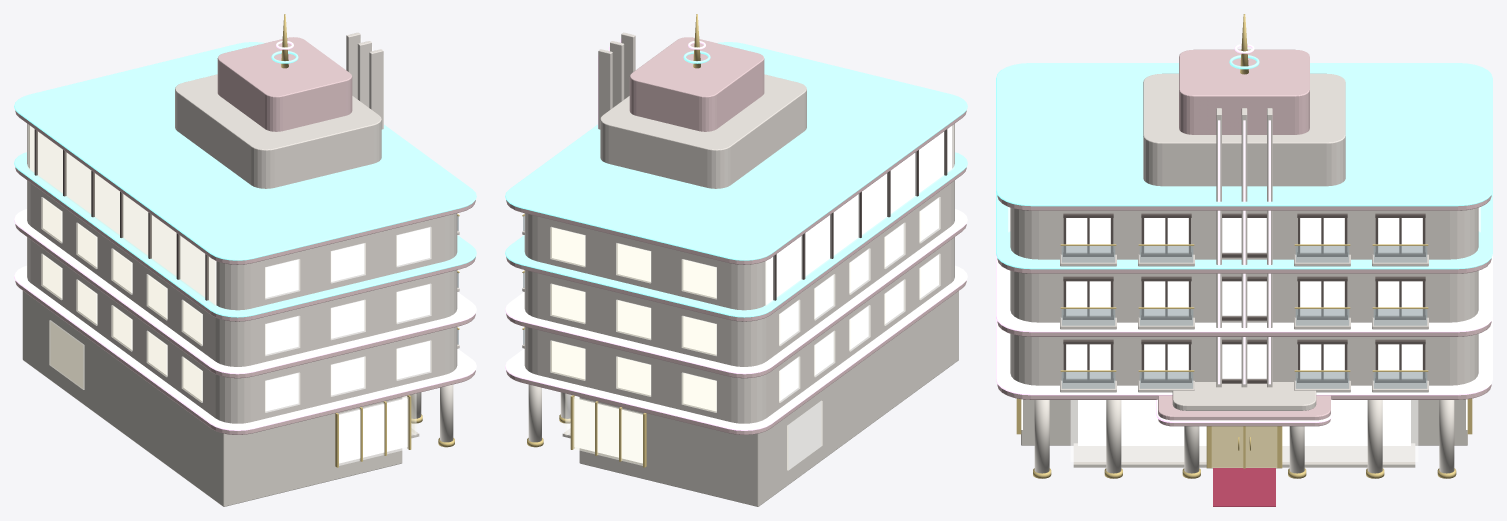
Rendered from building_hotel_solaire.glb.
3 views of the same model, side by side, from view 1: azimuth 30°, elevation 25°; view 2: azimuth 150°, elevation 25°; view 3: azimuth 270°, elevation 25° (orthographic). The views are drawn at different scales.
Parts seen in each view (by area): view 1: GroundCore; view 2: GroundCore; view 3: GroundCore.
Part boxes in pixels (x1,y1,x2,y2): GroundCore: (14, 14, 476, 506); GroundCore: (505, 14, 967, 506); GroundCore: (996, 14, 1492, 506).
Bounding box in the file's own units: 18.31 × 22.1 × 23.56.
